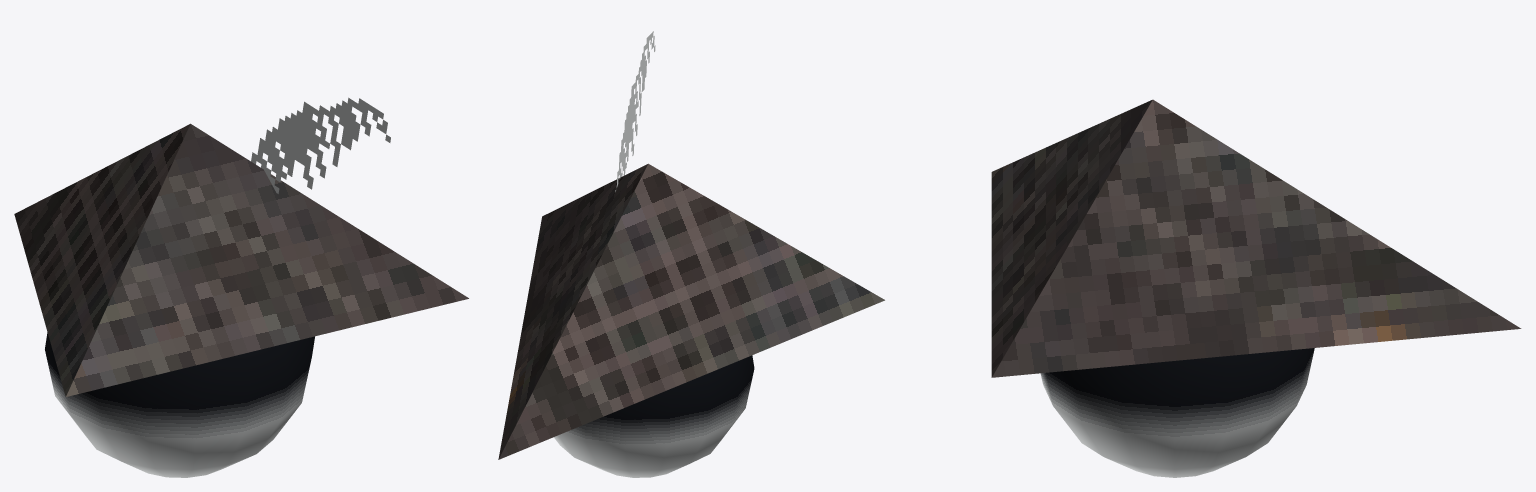
File: burial_head.gltf
3 views of the same model, side by side, from view 1: azimuth 30°, elevation 25°; view 2: azimuth 150°, elevation 25°; view 3: azimuth 270°, elevation 25° (orthographic). The views are drawn at different scales.
Parts seen in each view (by area): view 1: Plane, Sphere, Plane.001; view 2: Plane, Sphere, Plane.001; view 3: Plane, Sphere.
Part boxes in pixels (x1=…): Plane: x1=14, y1=123, x2=468, y2=396; Sphere: x1=45, y1=332, x2=314, y2=477; Plane.001: x1=251, y1=97, x2=390, y2=193; Plane: x1=498, y1=163, x2=884, y2=459; Sphere: x1=554, y1=355, x2=754, y2=477; Plane.001: x1=615, y1=31, x2=655, y2=191; Plane: x1=991, y1=99, x2=1521, y2=377; Sphere: x1=1040, y1=348, x2=1314, y2=477.
Bounding box in the file's own units: 0.6833 × 0.7345 × 0.8511.
Materials: 3 (3 with a texture image).
